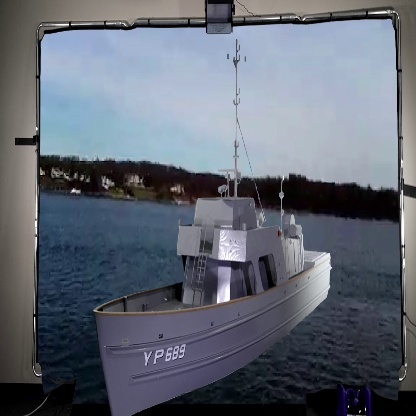YP689: (92, 39, 333, 416)
